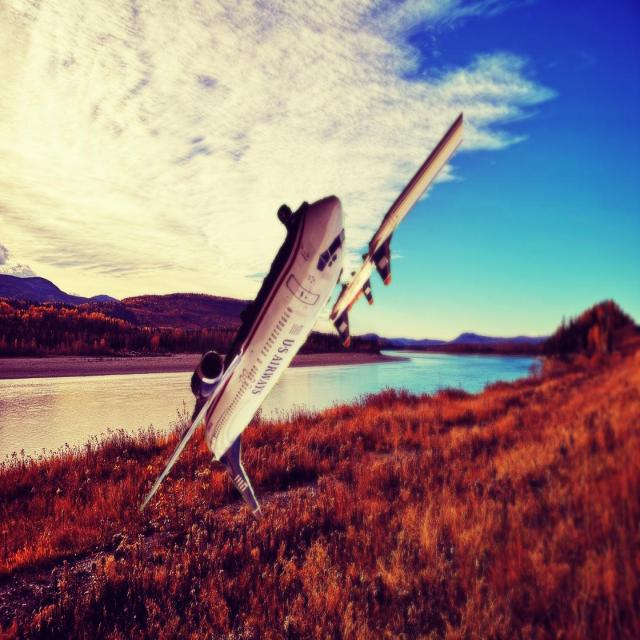airplane: (138, 110, 464, 521)
